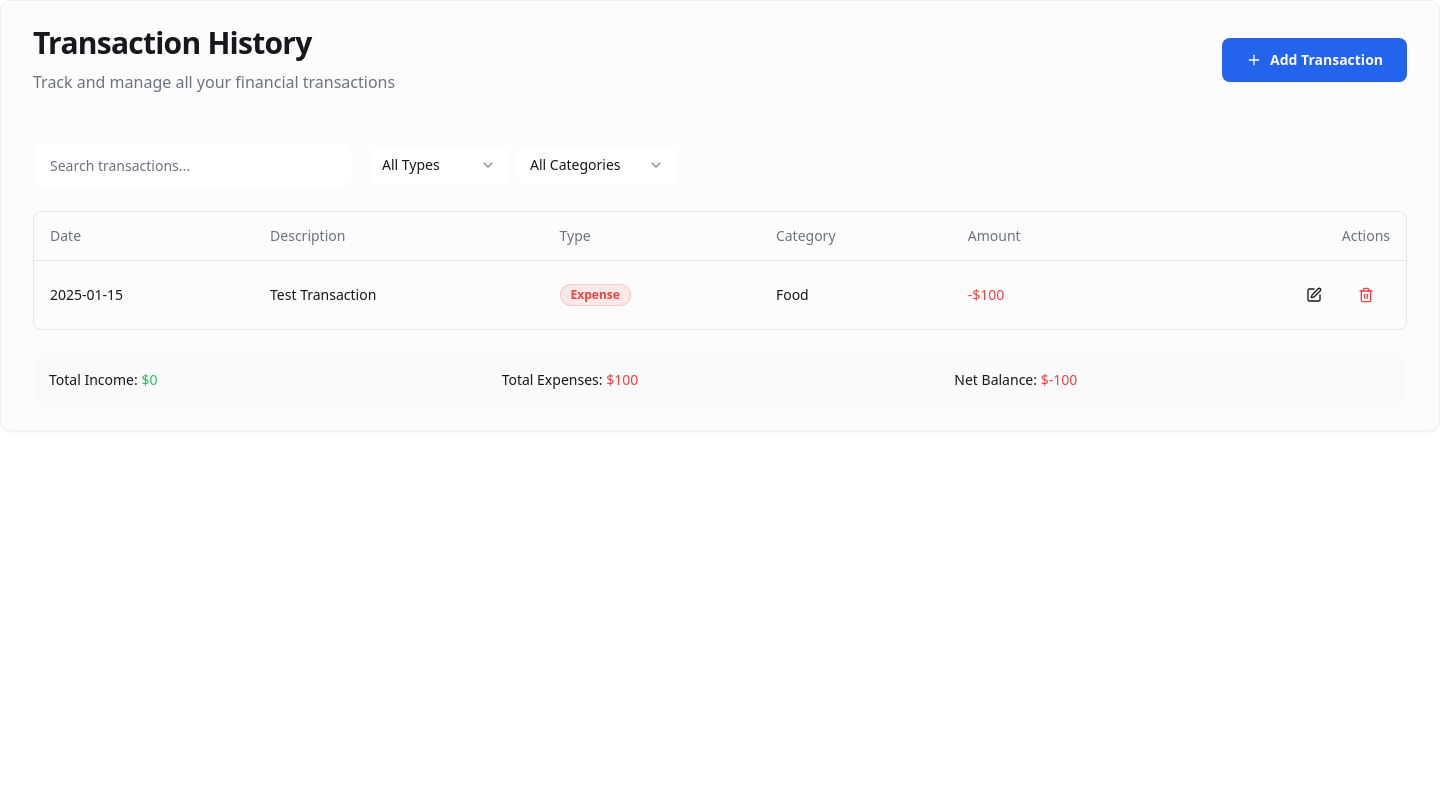
Test: Financial Operations Integration › opens add transaction dialog
Click the button "Add Transaction" at [1314, 60], box [1222,38,1407,82]
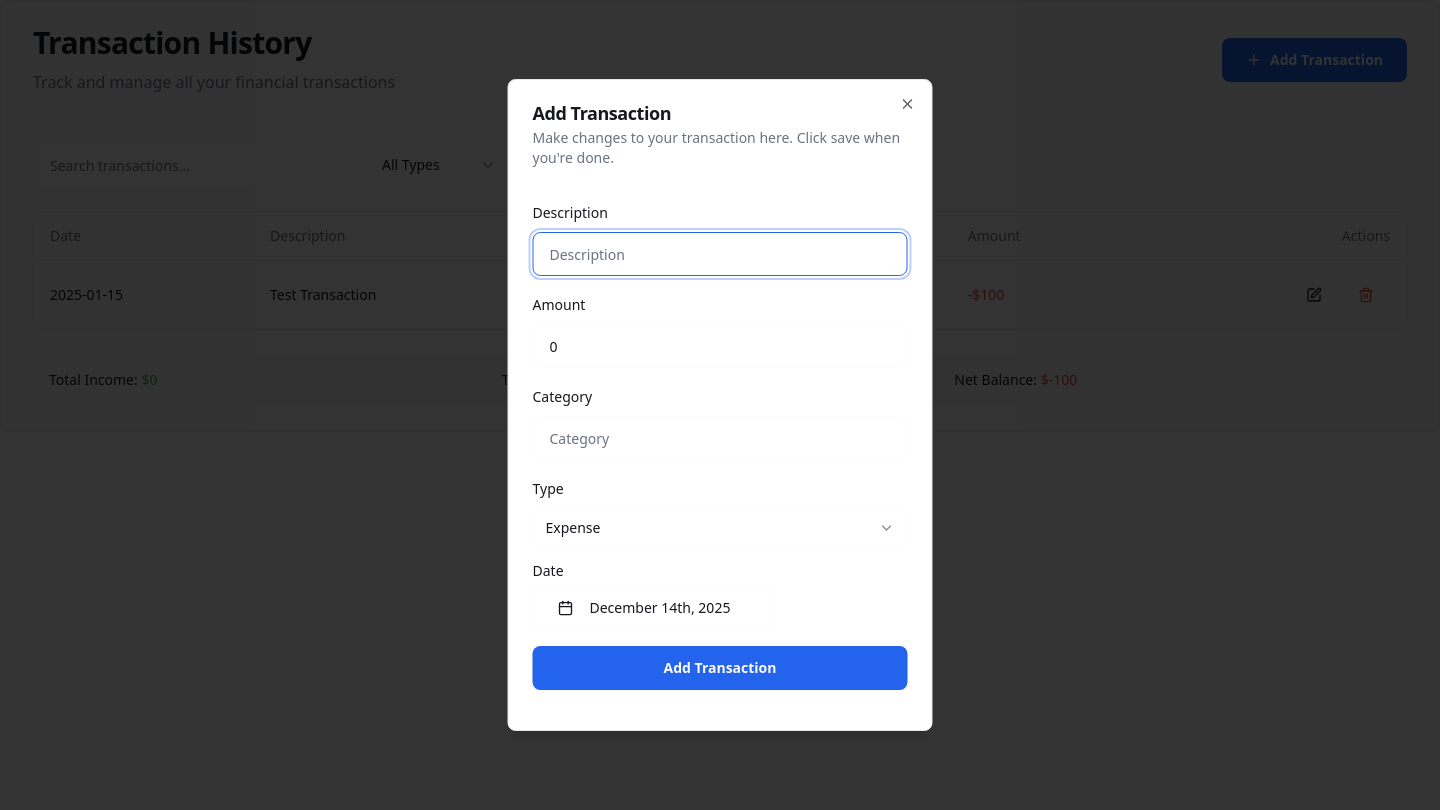
Now the dialog labelled "Add Transaction" is shown, box [508,79,932,731]
Now the field with placeholder "Description" is shown, box [532,232,908,276]
